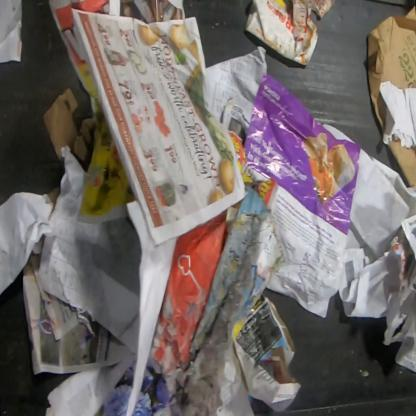cardboard: (367, 6, 415, 136), (244, 0, 320, 66), (44, 83, 96, 175), (387, 136, 415, 190)
